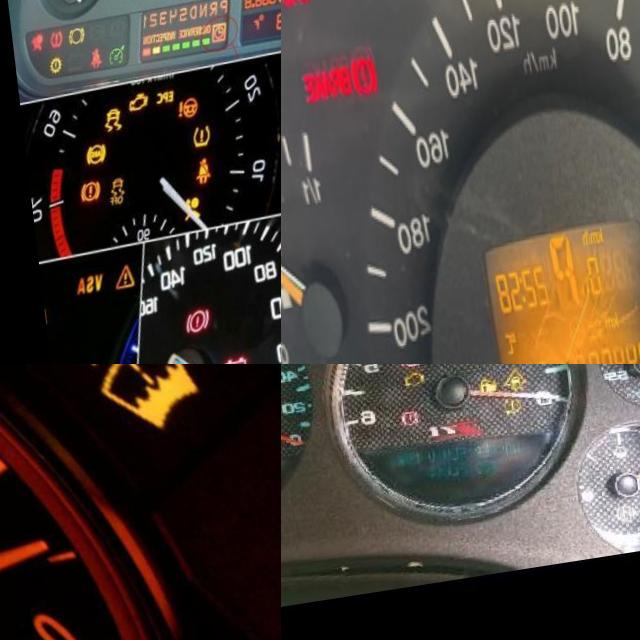Electronic Power Steering: (168, 100, 196, 127)
Seat Belt: (186, 163, 208, 191), (85, 51, 99, 72)
Washer Fluid: (71, 364, 189, 444)
